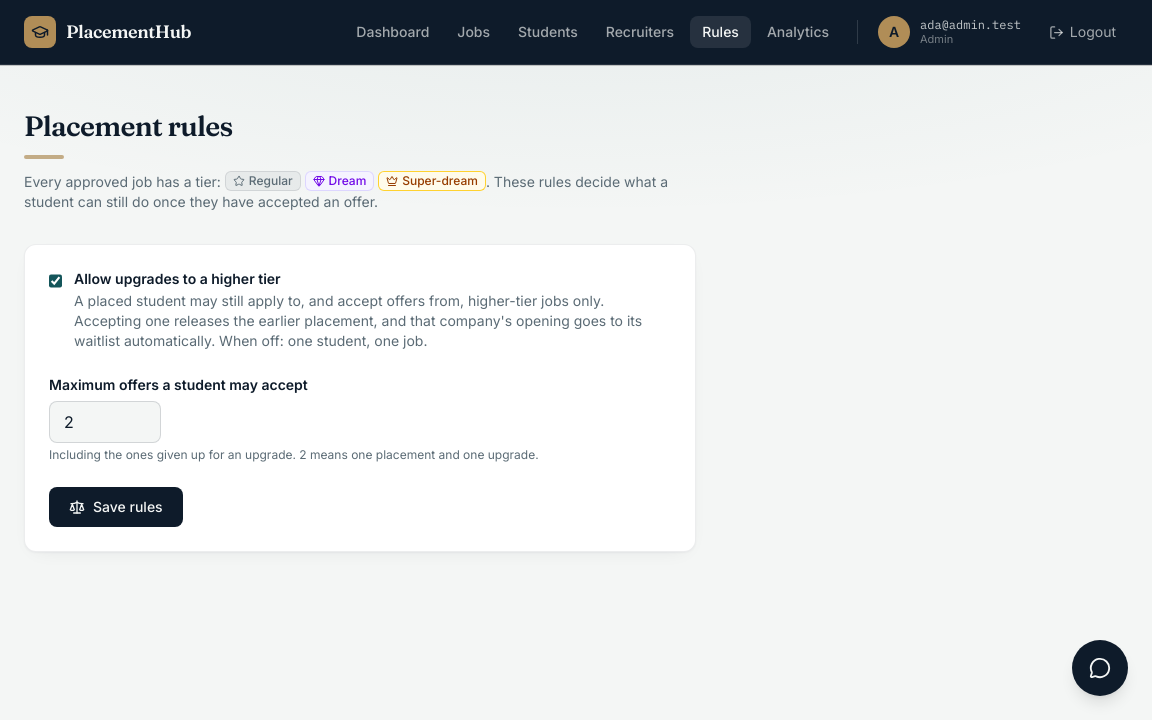
Test: Placement rules page › loads the rules and saves a new maximum
Replace the text in the number field labelled "Maximum offers a student may accept" with "3": (105, 422) left=49, top=401, right=161, bottom=443
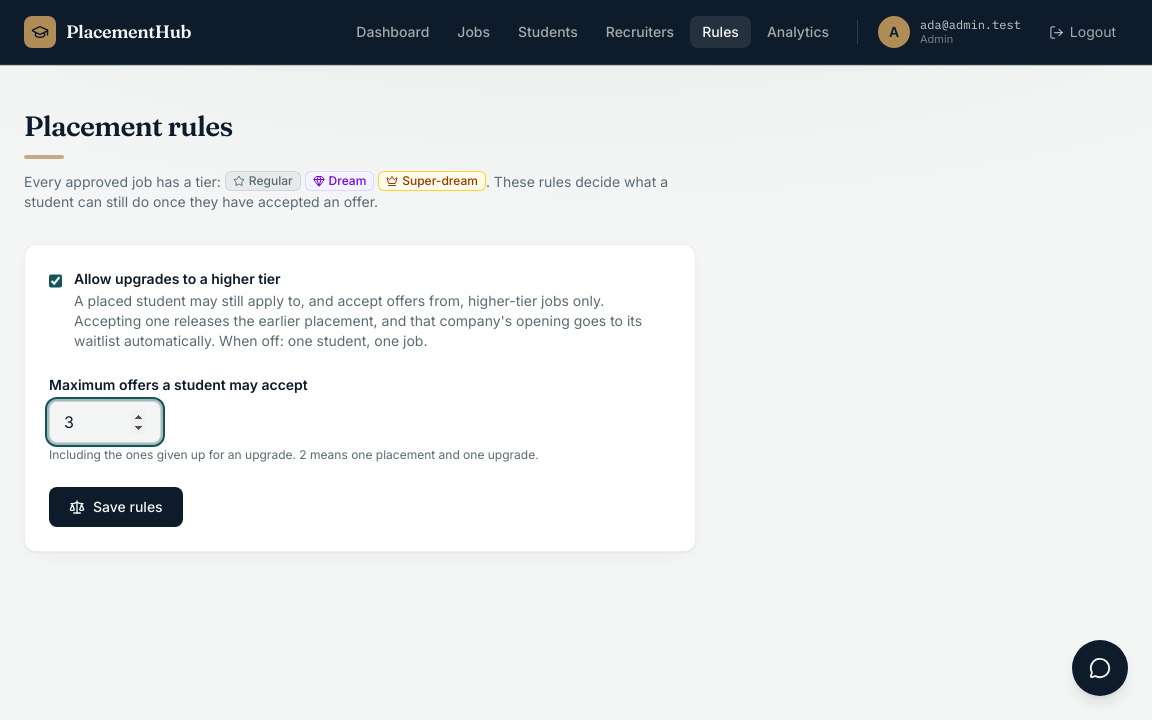
Click the button "Save rules": (116, 507) left=49, top=487, right=183, bottom=527
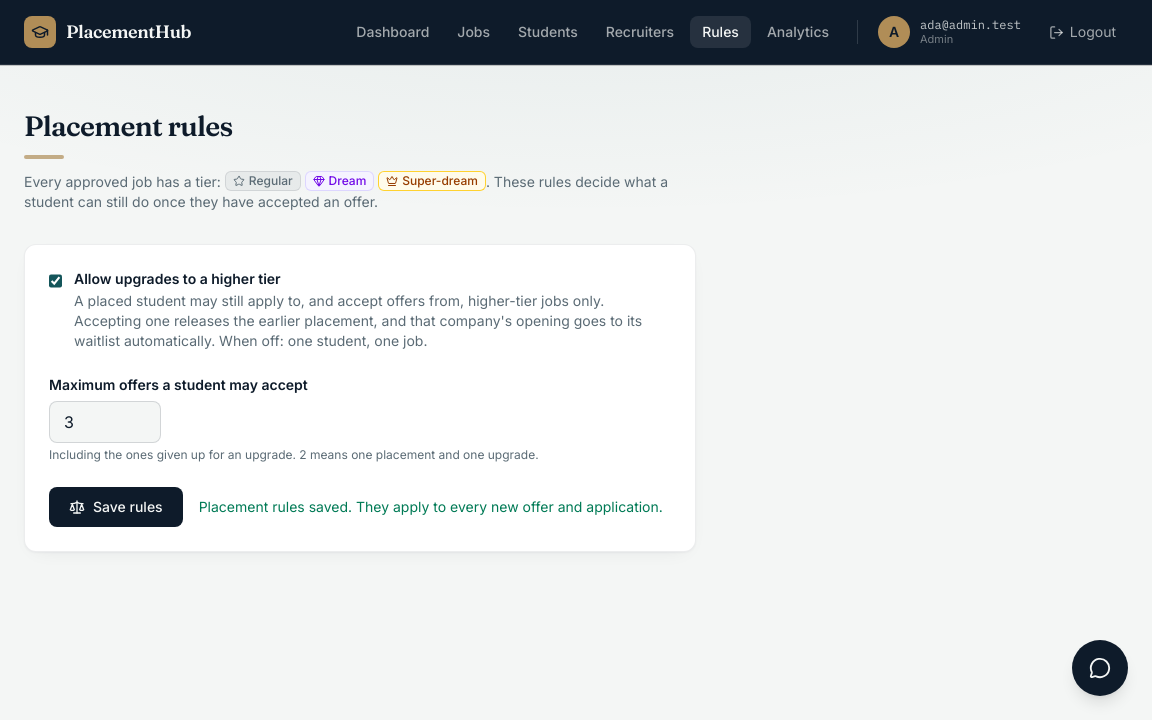
Result: the message shows "saved" at left=199, top=498, right=663, bottom=515
